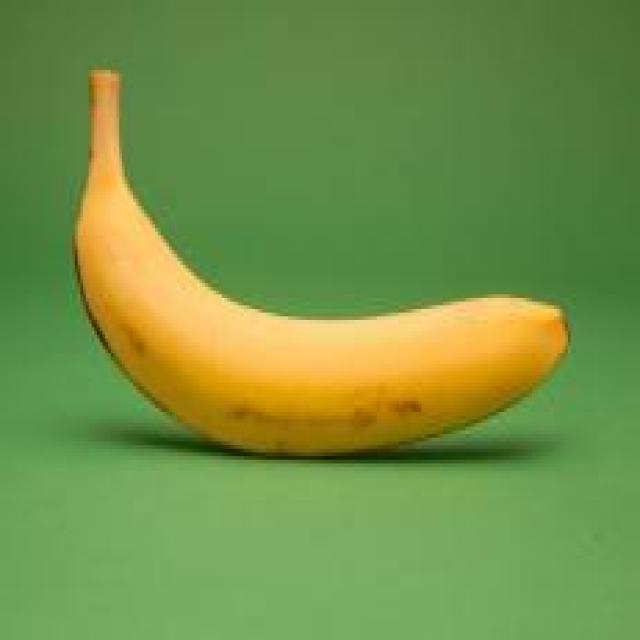Banana: (72, 68, 569, 449)
